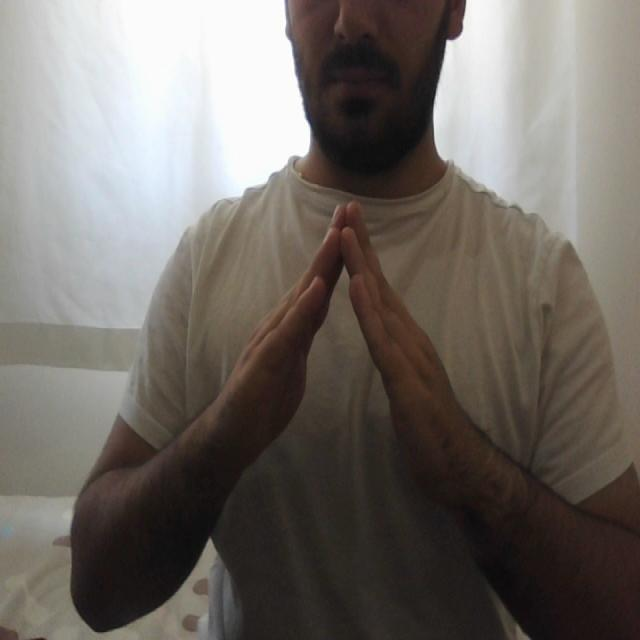Ev: (218, 194, 483, 491)
